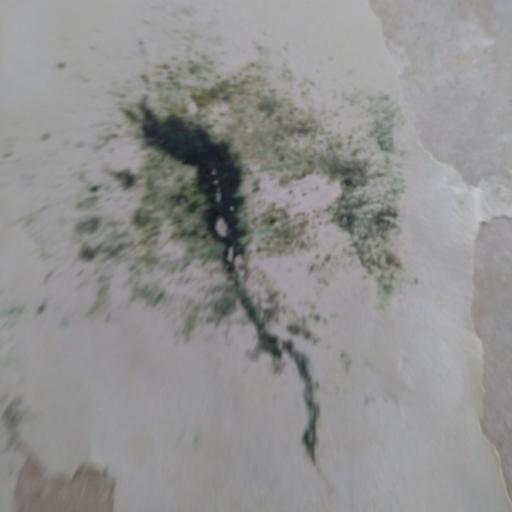algae: (100, 52, 484, 512)
